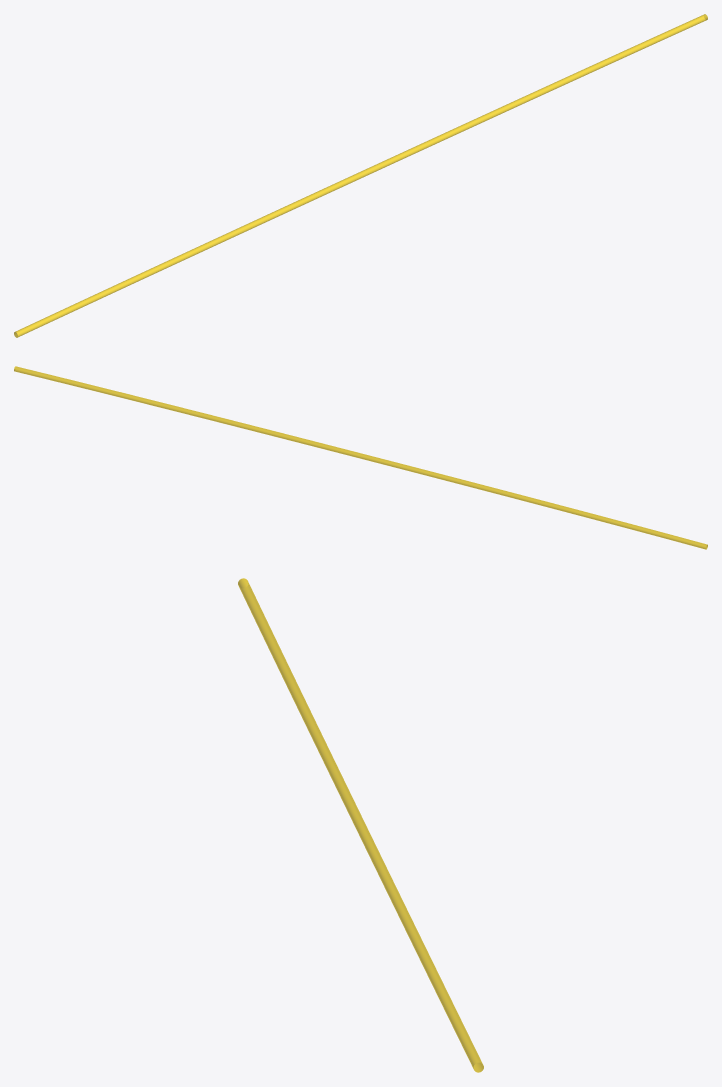
Rendered from Event_75125125_track_44.fbx.
The picture shows the model from 3 angles, top to bottom: view 1: azimuth 30°, elevation 25°; view 2: azimuth 150°, elevation 25°; view 3: azimuth 270°, elevation 25°; orthographic projection. The views are drawn at different scales.
Parts seen in each view (by area): view 1: Model; view 2: Model; view 3: Model.
Part boxes in pixels (left/top/right/bottom): Model: left=14, top=14, right=707, bottom=337; Model: left=14, top=366, right=707, bottom=549; Model: left=238, top=578, right=483, bottom=1072.
Bounding box in the file's own units: 5.5 × 0.5949 × 0.9249.
